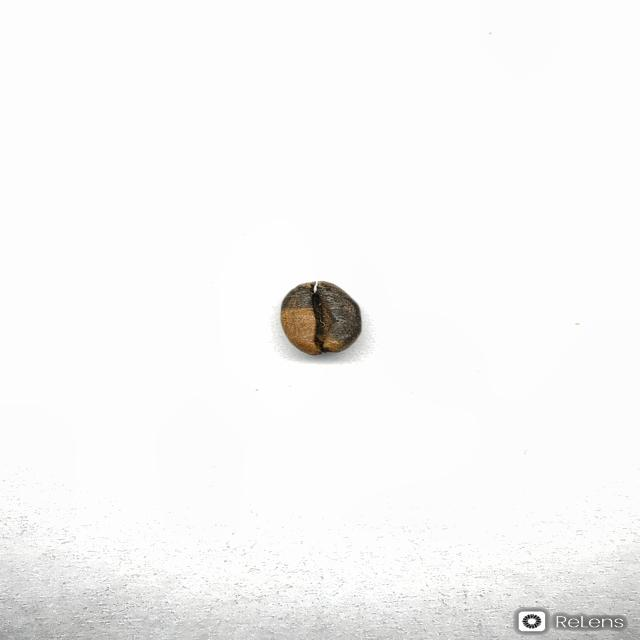Insect damage: (279, 280, 362, 356)
